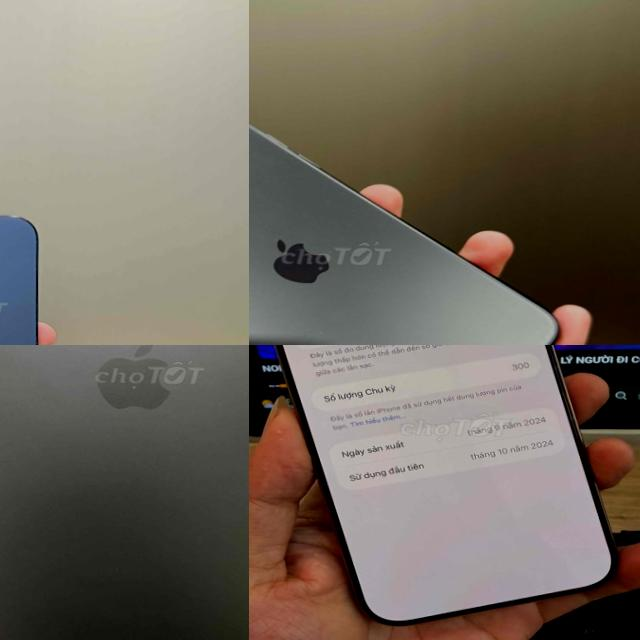gen_11: (249, 83, 569, 345)
gen_14: (0, 345, 249, 640)
gen_16: (275, 345, 613, 622)
